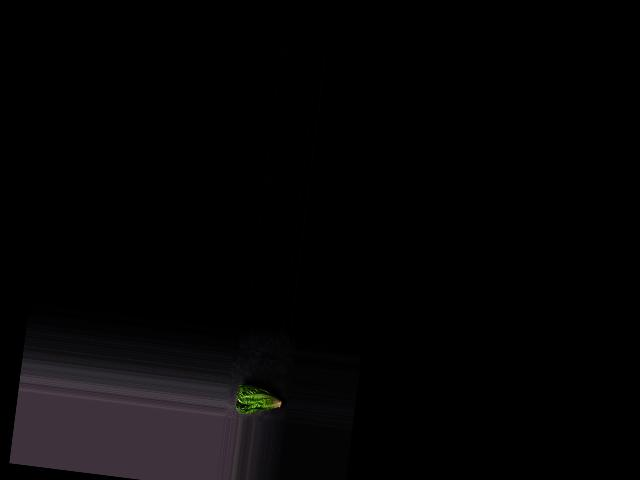lettuce: (234, 381, 287, 419)
